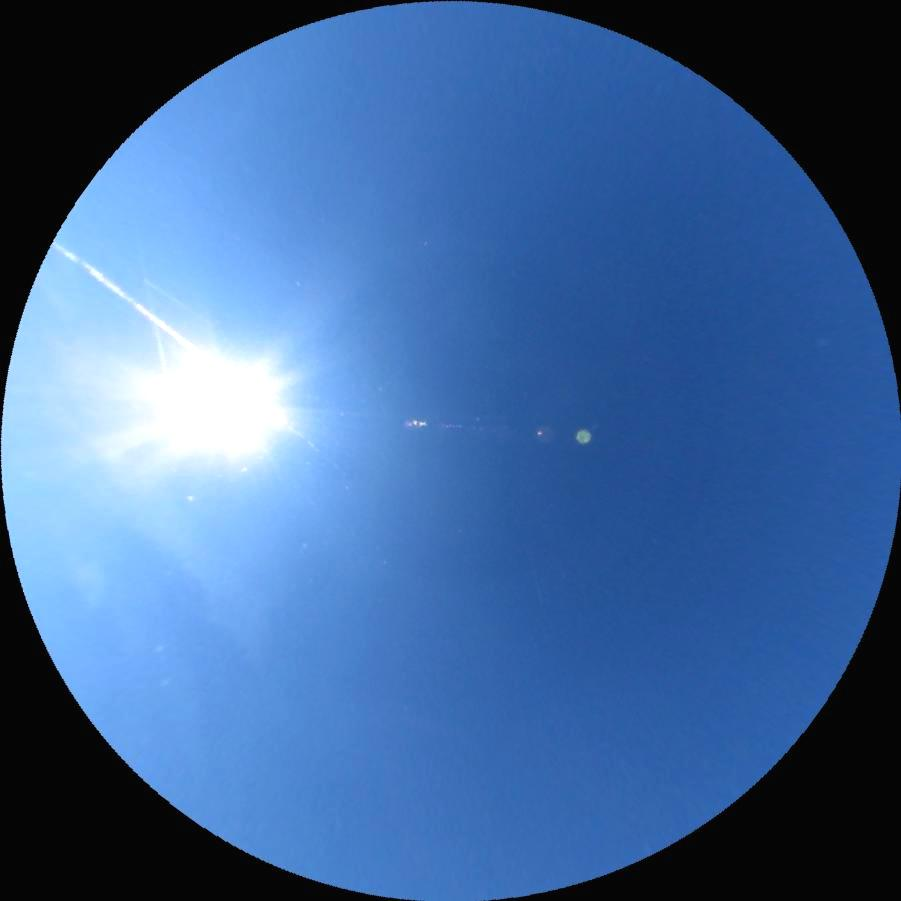contrail young: (136, 264, 172, 380), (529, 567, 544, 607)
parasite: (49, 236, 208, 359), (141, 273, 190, 311)
sun: (146, 331, 291, 475)
